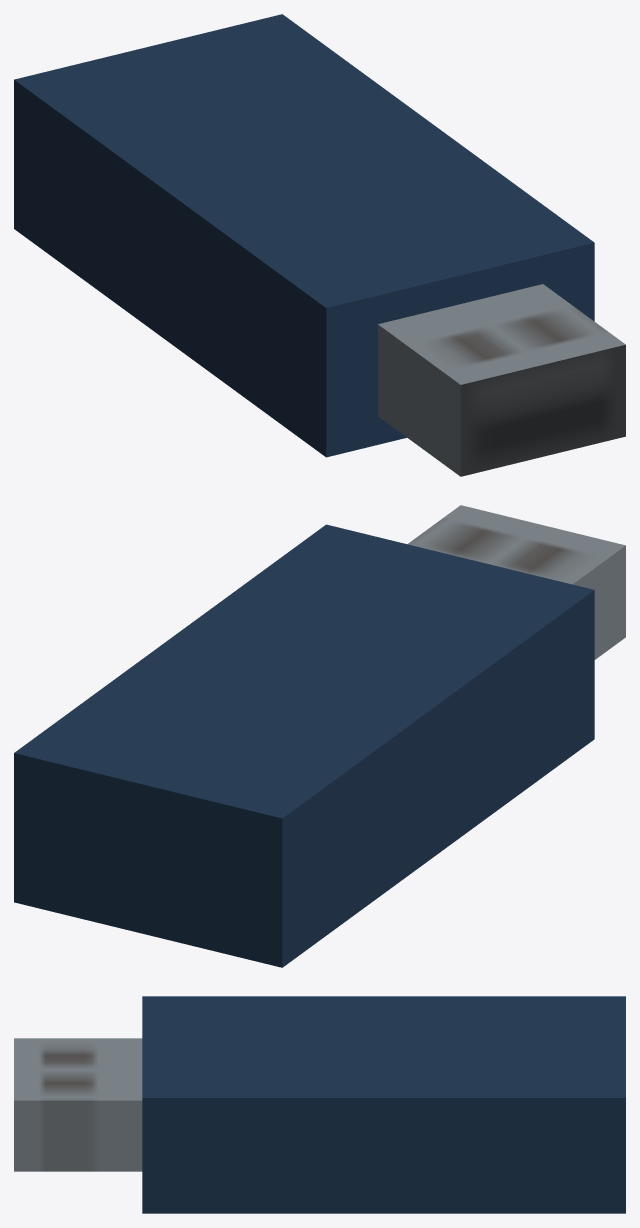
File: SM_Prop_Flash_Drive_01.glb
The picture shows the model from 3 angles, top to bottom: view 1: azimuth 30°, elevation 25°; view 2: azimuth 150°, elevation 25°; view 3: azimuth 270°, elevation 25°; orthographic projection. The views are drawn at different scales.
Parts seen in each view (by area): view 1: SM_Prop_Flash_Drive_01; view 2: SM_Prop_Flash_Drive_01; view 3: SM_Prop_Flash_Drive_01.
Part boxes in pixels (x1,y1,x2,y2): SM_Prop_Flash_Drive_01: (14,14,625,476); SM_Prop_Flash_Drive_01: (14,505,625,967); SM_Prop_Flash_Drive_01: (14,996,625,1213).
Size of the model in its own units: 0.0334 by 0.0178 by 0.0853.
1 material, 1 textured.
